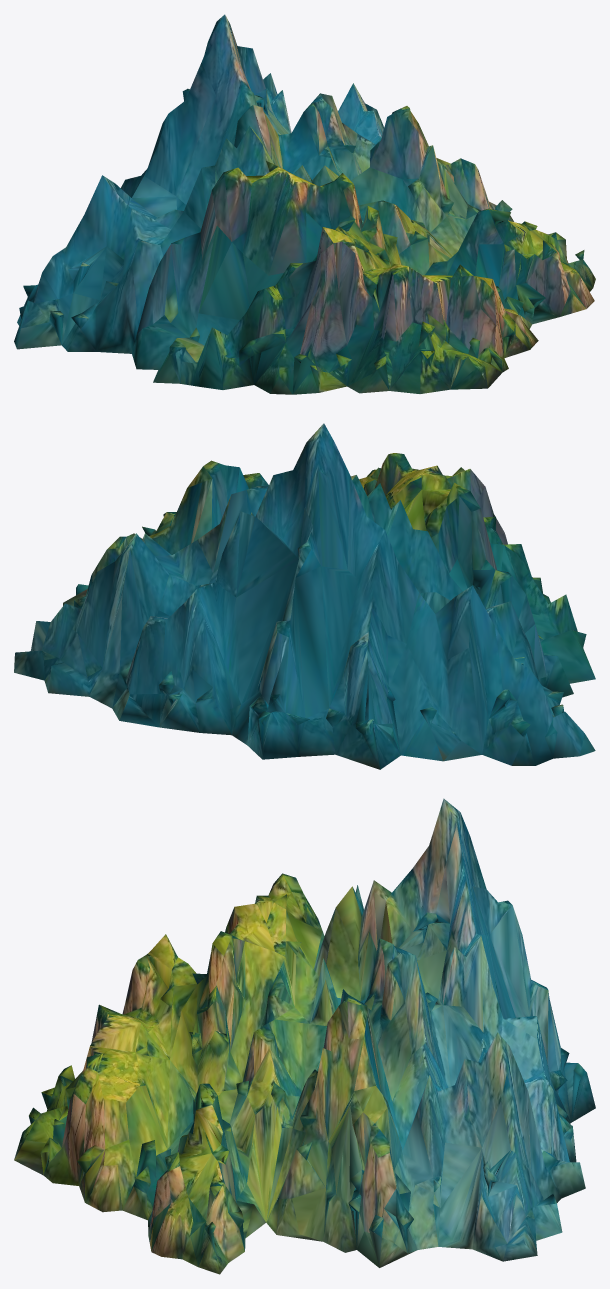
Rendered from mountain.glb.
3 views of the same model, one above another, from view 1: azimuth 30°, elevation 25°; view 2: azimuth 150°, elevation 25°; view 3: azimuth 270°, elevation 25° (orthographic). The views are drawn at different scales.
Parts seen in each view (by area): view 1: TripoMountain_Mesh; view 2: TripoMountain_Mesh; view 3: TripoMountain_Mesh.
Part boxes in pixels (box(x1,y1,x2,y2)): TripoMountain_Mesh: box(14, 14, 595, 394); TripoMountain_Mesh: box(14, 423, 595, 769); TripoMountain_Mesh: box(14, 798, 595, 1274).
Size of the model in its own units: 2.4 by 1.2 by 2.
Materials: 1 (1 with a texture image).
